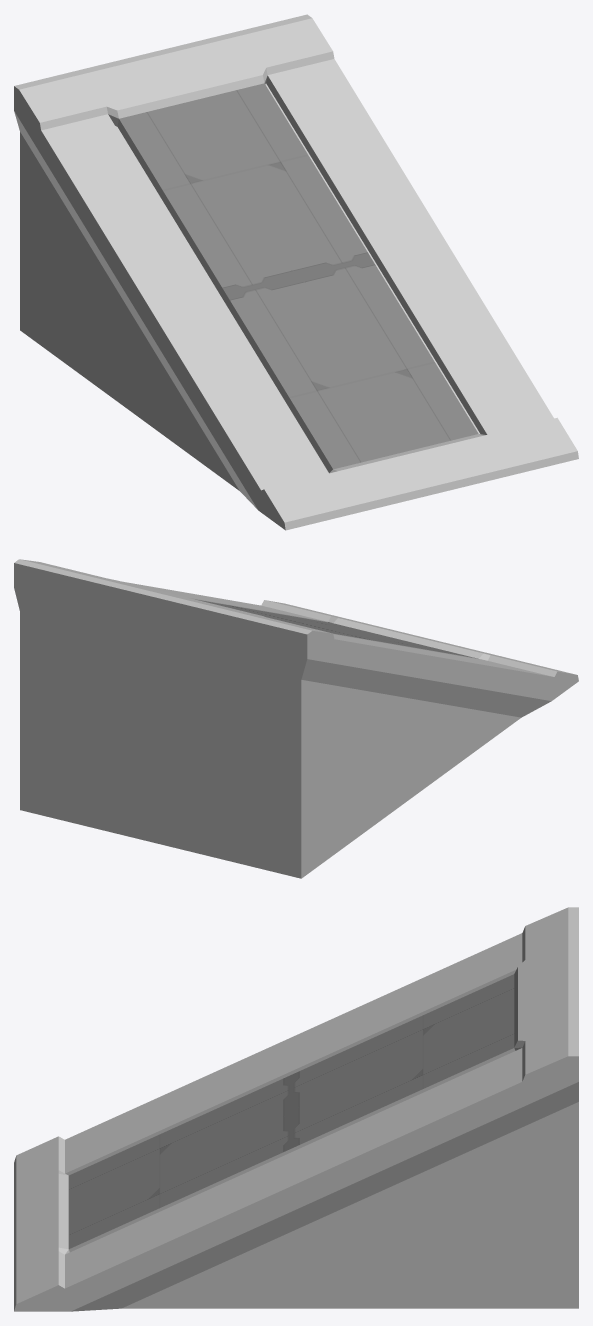
File: SM_Ramp_3x2.fbx
3 views of the same model, one above another, from view 1: azimuth 30°, elevation 25°; view 2: azimuth 150°, elevation 25°; view 3: azimuth 270°, elevation 25° (orthographic). The views are drawn at different scales.
Parts seen in each view (by area): view 1: SM_Ramp_3x2; view 2: SM_Ramp_3x2; view 3: SM_Ramp_3x2.
Part boxes in pixels (x1,y1,x2,y2): SM_Ramp_3x2: (14, 14, 578, 530); SM_Ramp_3x2: (14, 559, 578, 878); SM_Ramp_3x2: (14, 907, 578, 1311).
Bounding box in the file's own units: 187 × 149 × 299.
